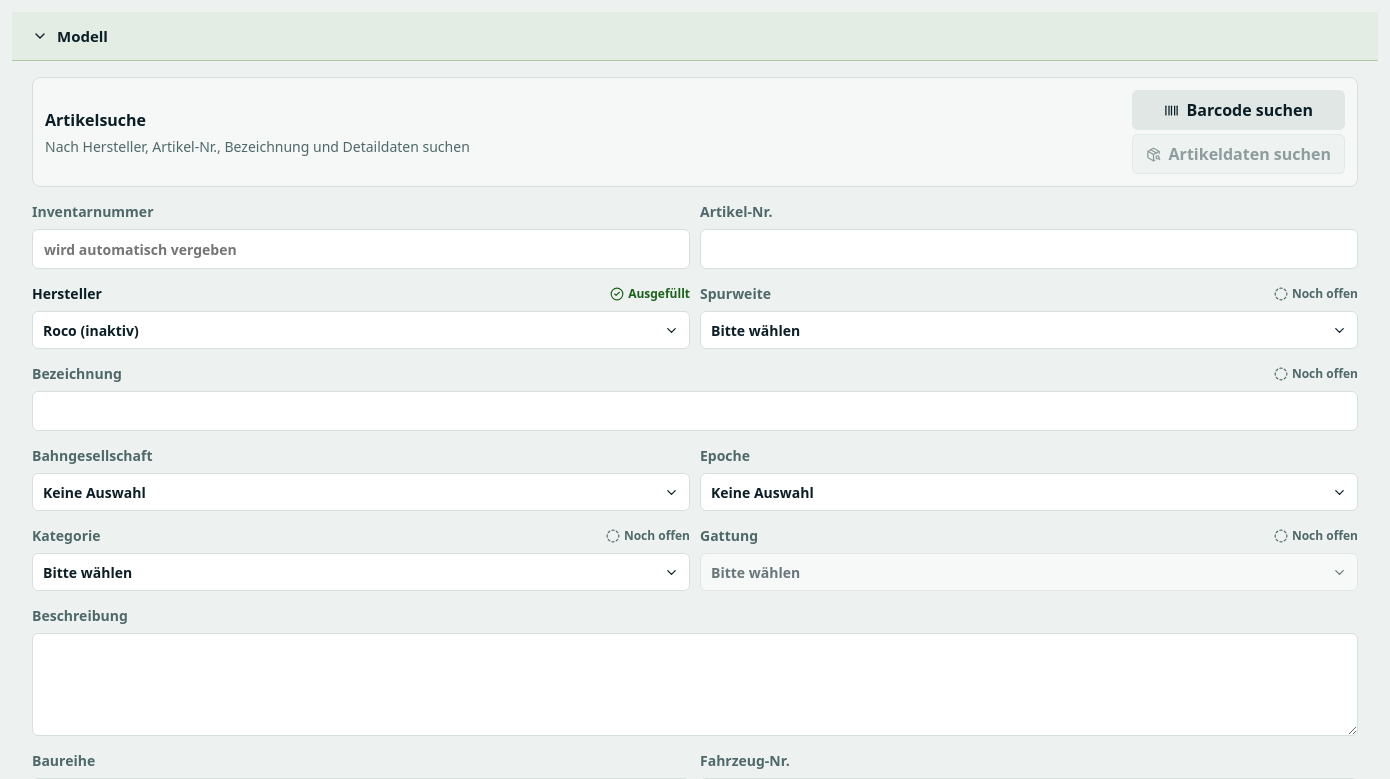
VehicleModelTab operational fields › shows only the current inactive manufacturer with an inactive suffix
Click the button named "Hersteller: Ausgefüllt" at (60, 330), box [32,311,690,349]
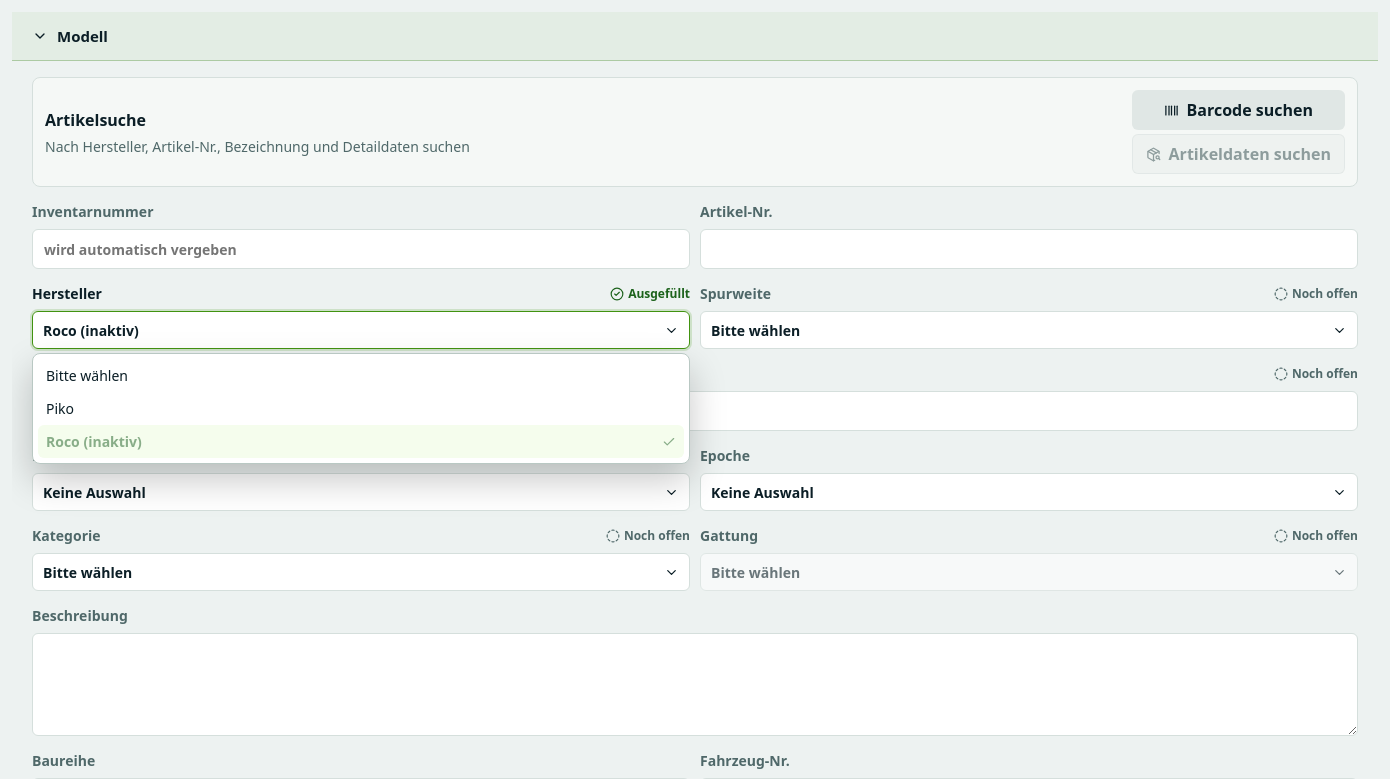
Result: the option "Roco (inaktiv)" is disabled at [38,425,684,458]
Result: the option "Piko" is enabled at [38,392,684,425]
